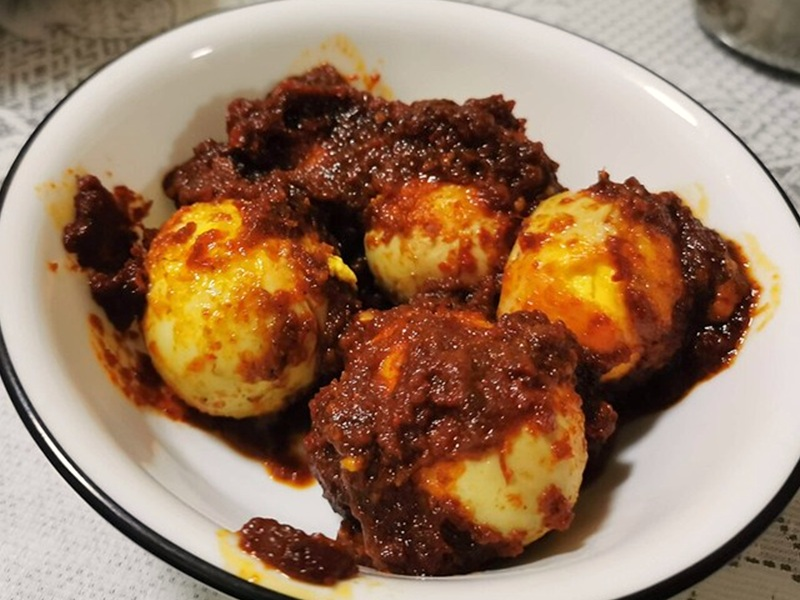Telur Balado: (48, 82, 724, 579)
